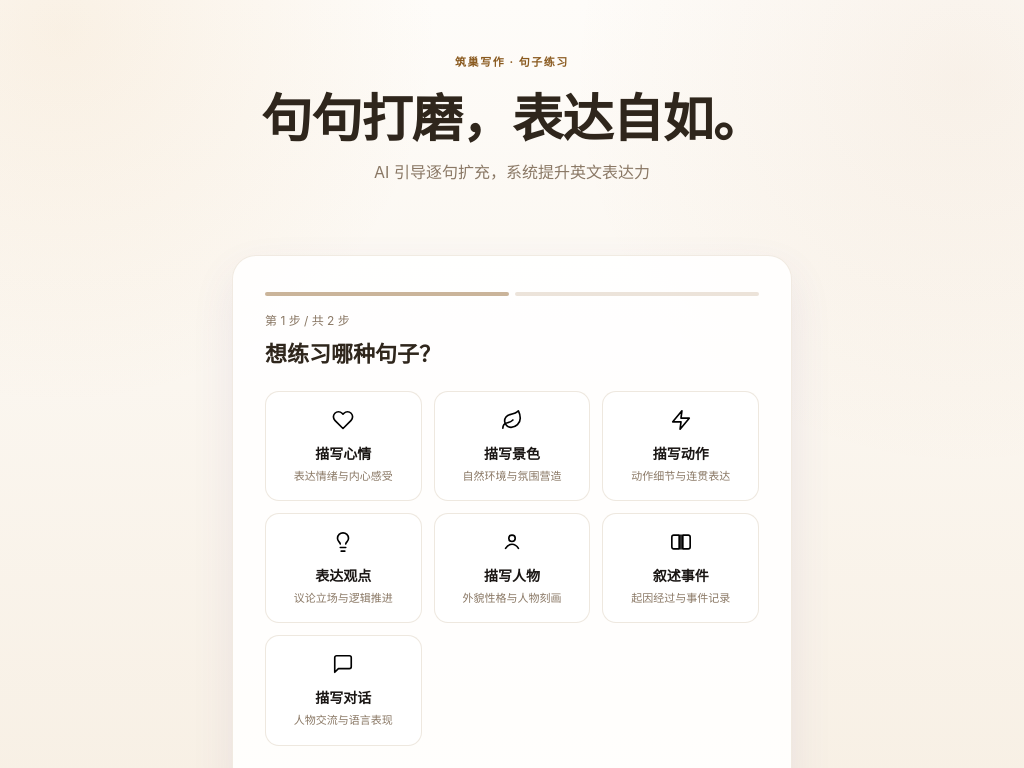
Test: WritingRefineSentencePage › shows an error and lets the user retry when base-sentence generation fails
The image size is (1024, 768).
Click the button "描写心情 表达情绪与内心感受" at (343, 446), box [265, 391, 422, 501]
(page scrolled)
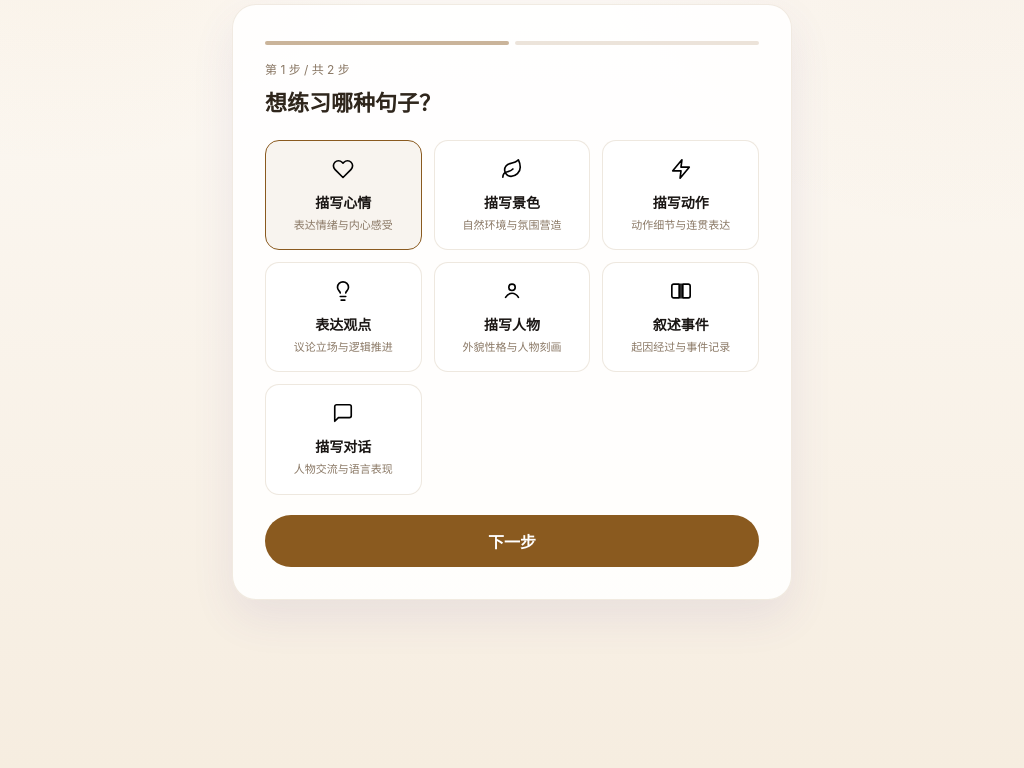
Click the button "下一步" at (512, 541), box [265, 515, 759, 567]
(page scrolled)
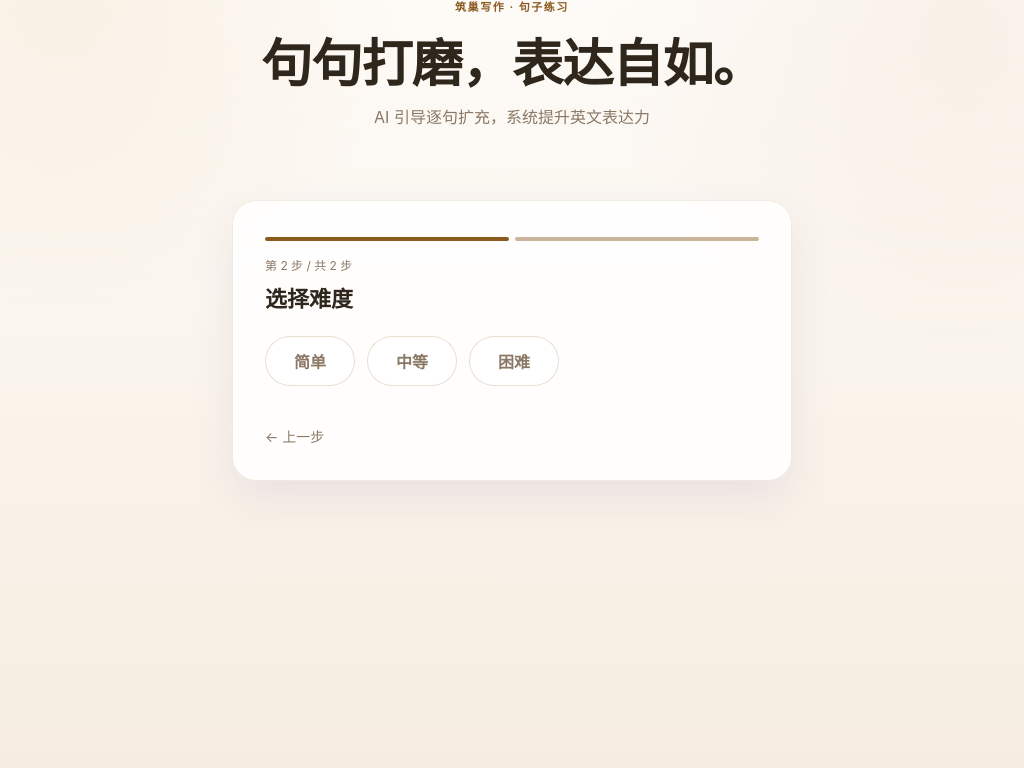
Click the button "简单" at (310, 361), box [265, 336, 355, 386]
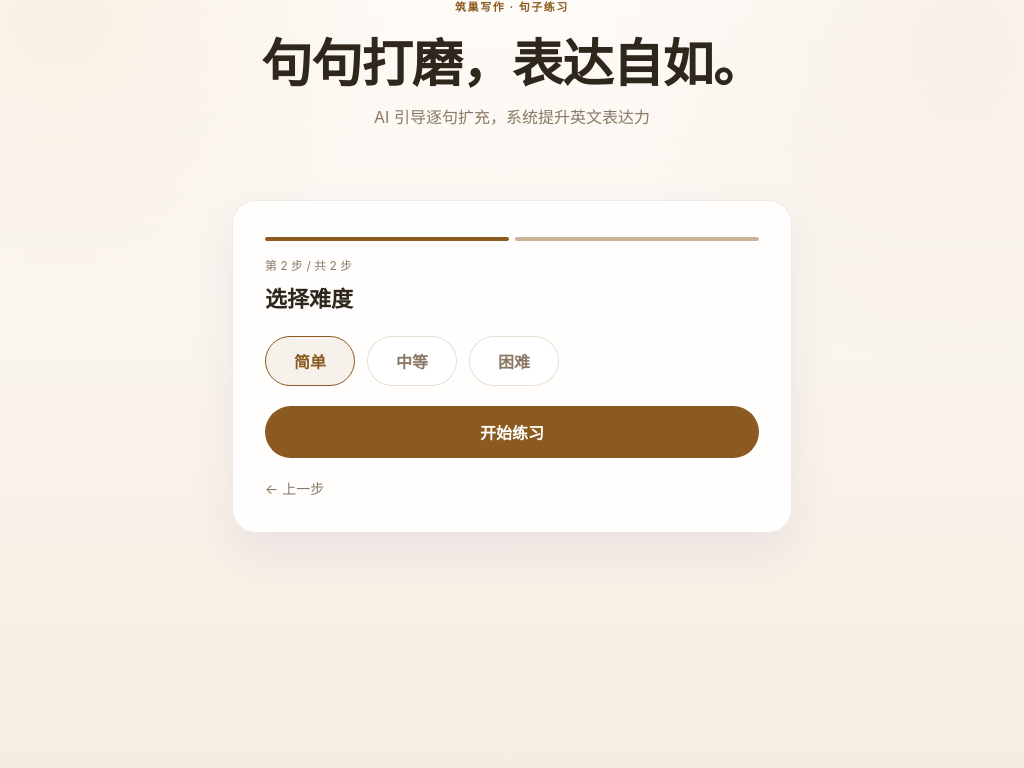
Click the button "开始练习" at (512, 432), box [265, 406, 759, 458]
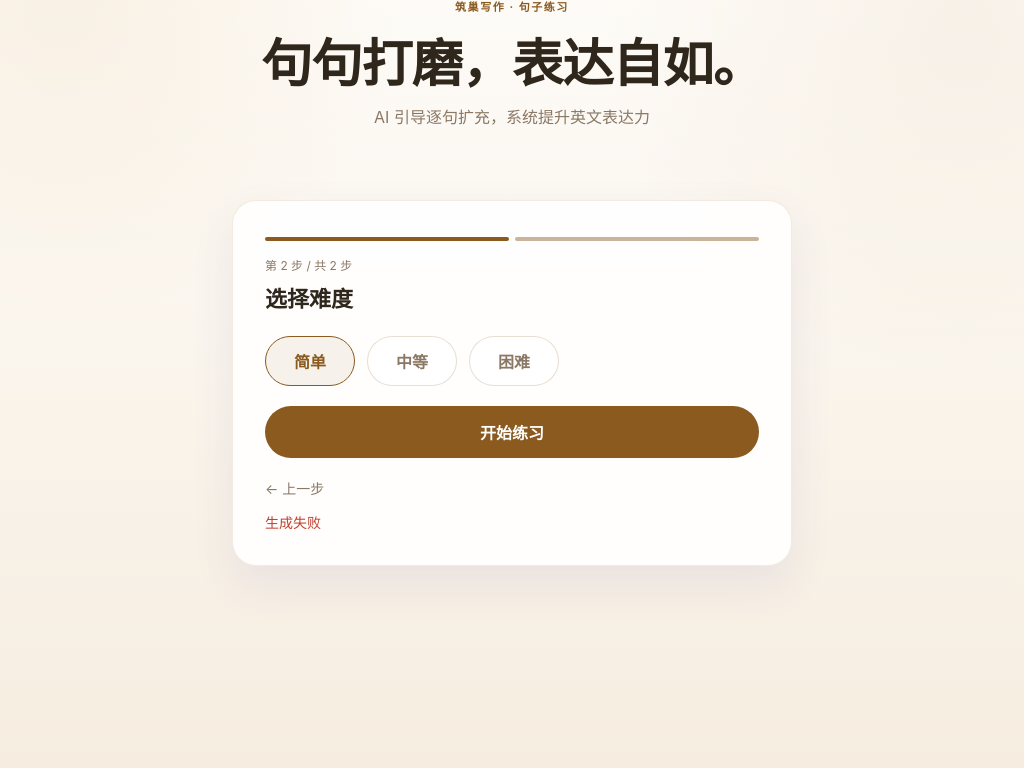
Result: the text "生成失败" is shown at [265, 514, 321, 531]
